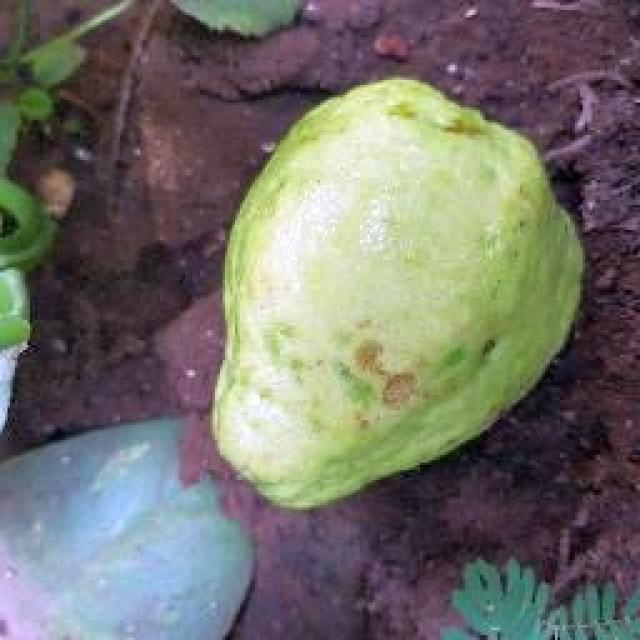Good_Guava: (208, 78, 585, 512)
